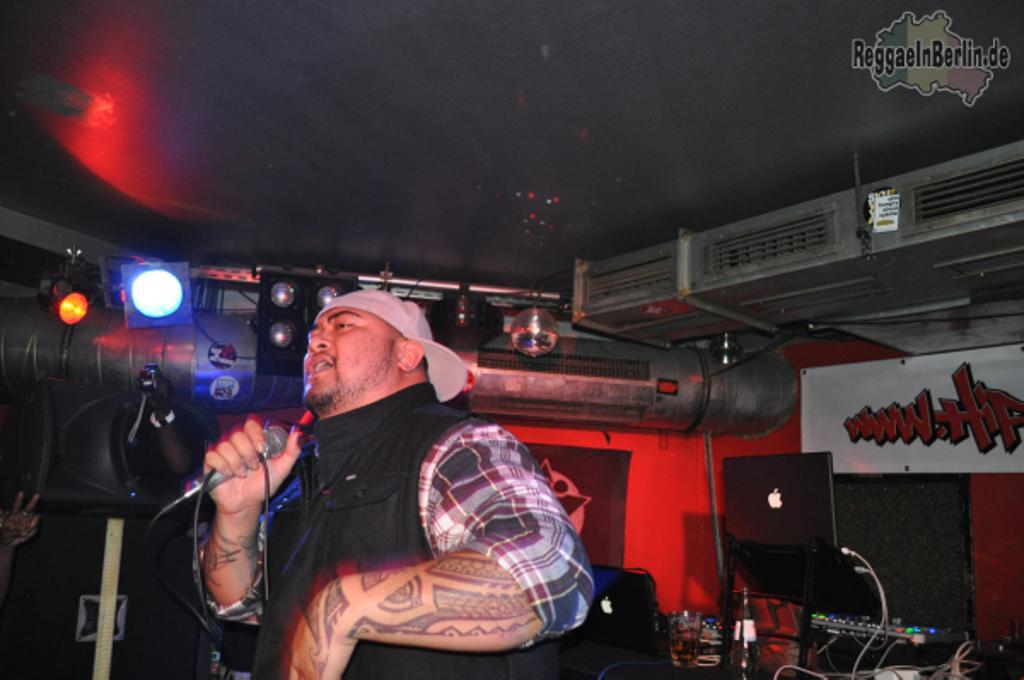face: (307, 295, 389, 403)
